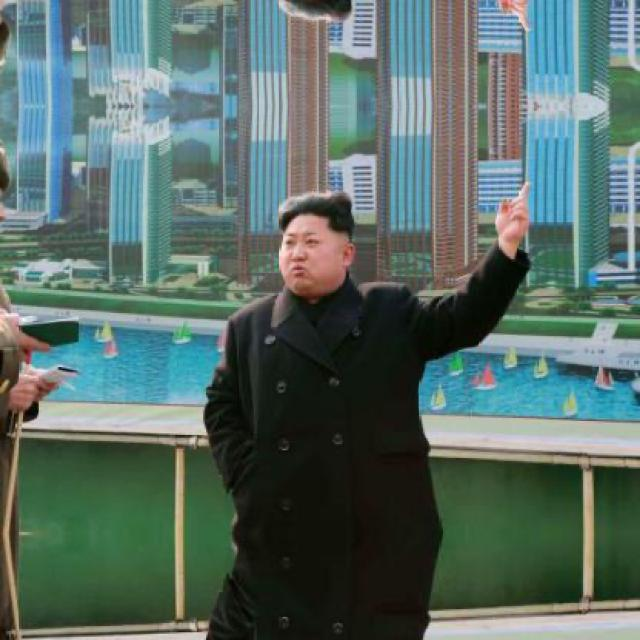sin casco: (246, 176, 393, 296)
